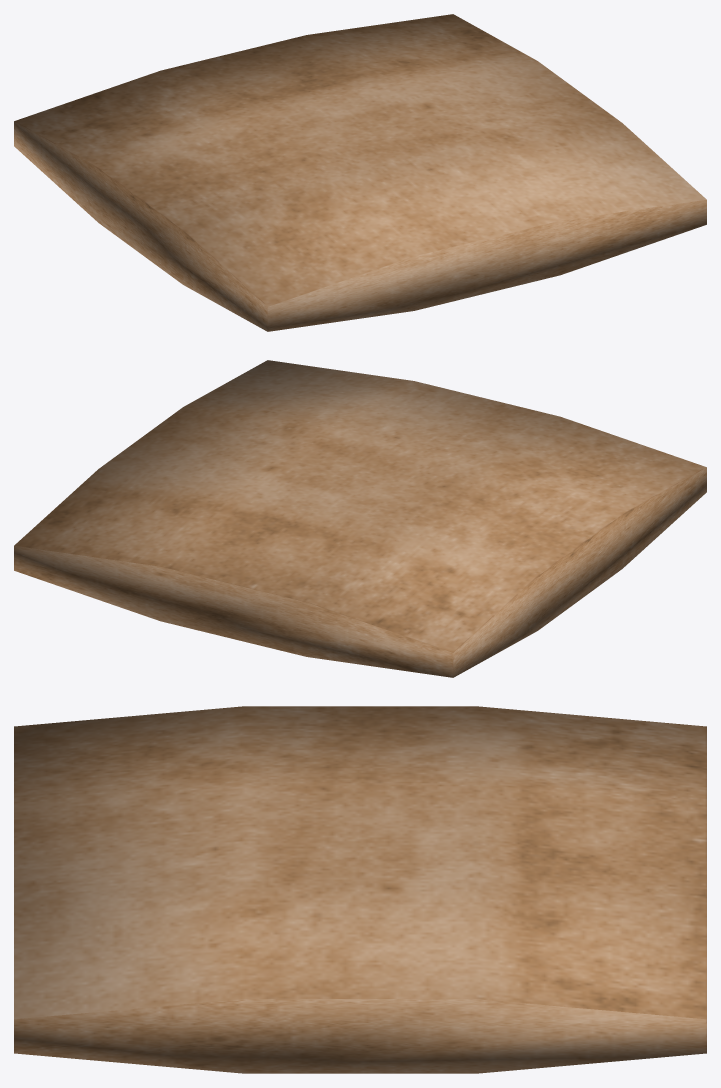
File: Wad.fbx
3 views of the same model, one above another, from view 1: azimuth 30°, elevation 25°; view 2: azimuth 150°, elevation 25°; view 3: azimuth 270°, elevation 25° (orthographic). The views are drawn at different scales.
Parts seen in each view (by area): view 1: Wad; view 2: Wad; view 3: Wad.
Boxes of the visible parts, x1,y1,x2,y2 form: Wad: (14,14,706,331); Wad: (14,360,706,677); Wad: (14,706,706,1073).
Size of the model in its own units: 0.038 by 0.038 by 0.00658.
